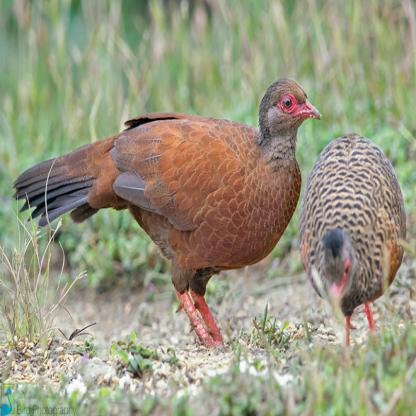Burung: (13, 81, 323, 353)
